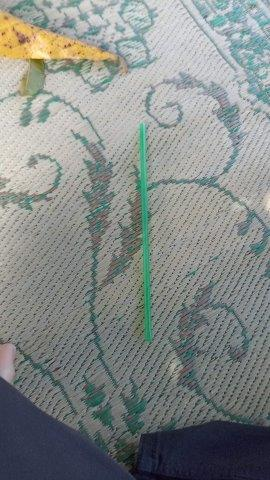sedotan: (140, 123, 151, 339)
